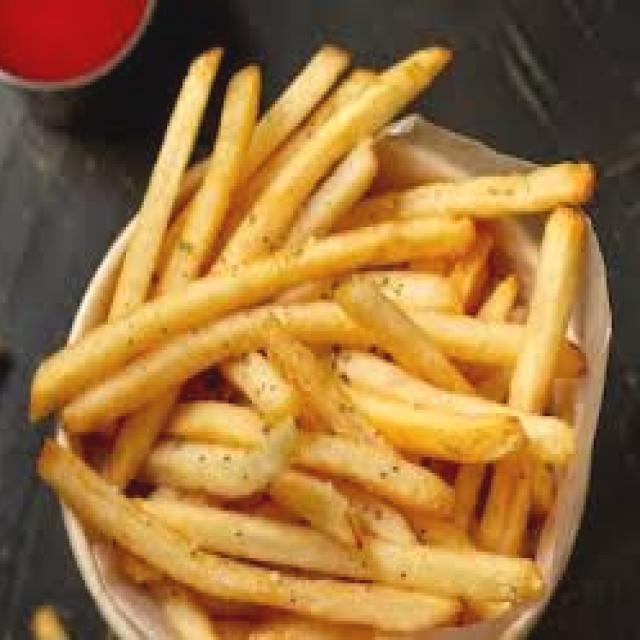kentang goreng: (28, 218, 496, 422), (105, 47, 224, 318)
